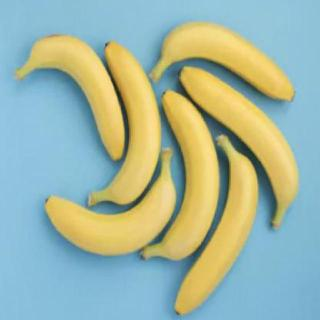banana: (179, 62, 301, 231), (174, 134, 258, 316), (14, 31, 128, 162), (44, 147, 176, 260), (140, 87, 221, 263), (86, 39, 162, 209), (149, 20, 297, 104)
